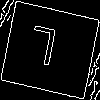L: (25, 25, 59, 76)
